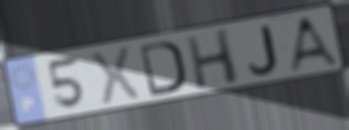5: (43, 56, 88, 112)
A: (286, 13, 342, 74)
D: (137, 39, 187, 99)
H: (183, 26, 242, 91)
J: (247, 23, 281, 76)
X: (89, 43, 143, 107)
